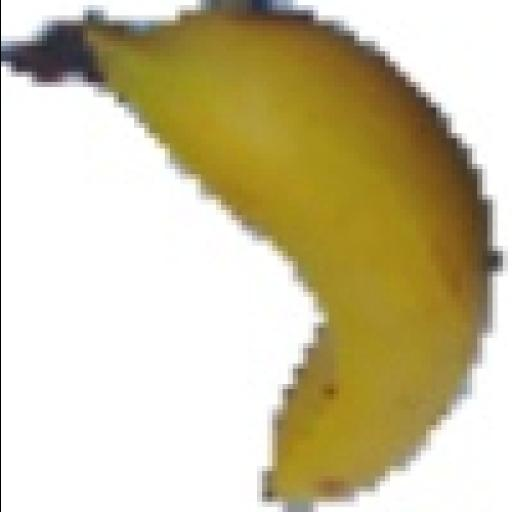banana: (78, 10, 487, 500), (273, 327, 338, 464)
